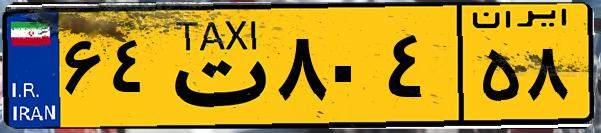0: (330, 28, 385, 110)
4: (385, 28, 445, 110), (110, 28, 158, 98)
5: (475, 38, 525, 113)
6: (57, 26, 110, 100)
8: (270, 28, 330, 110), (525, 38, 570, 115)
ت: (158, 12, 270, 120)
